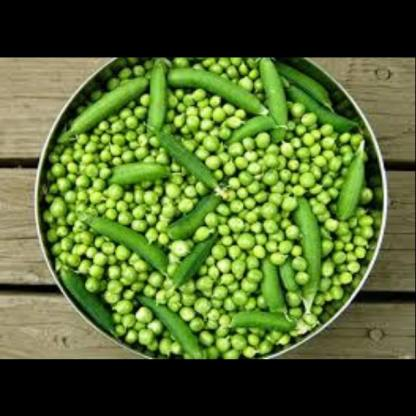peas: (38, 57, 377, 358)
